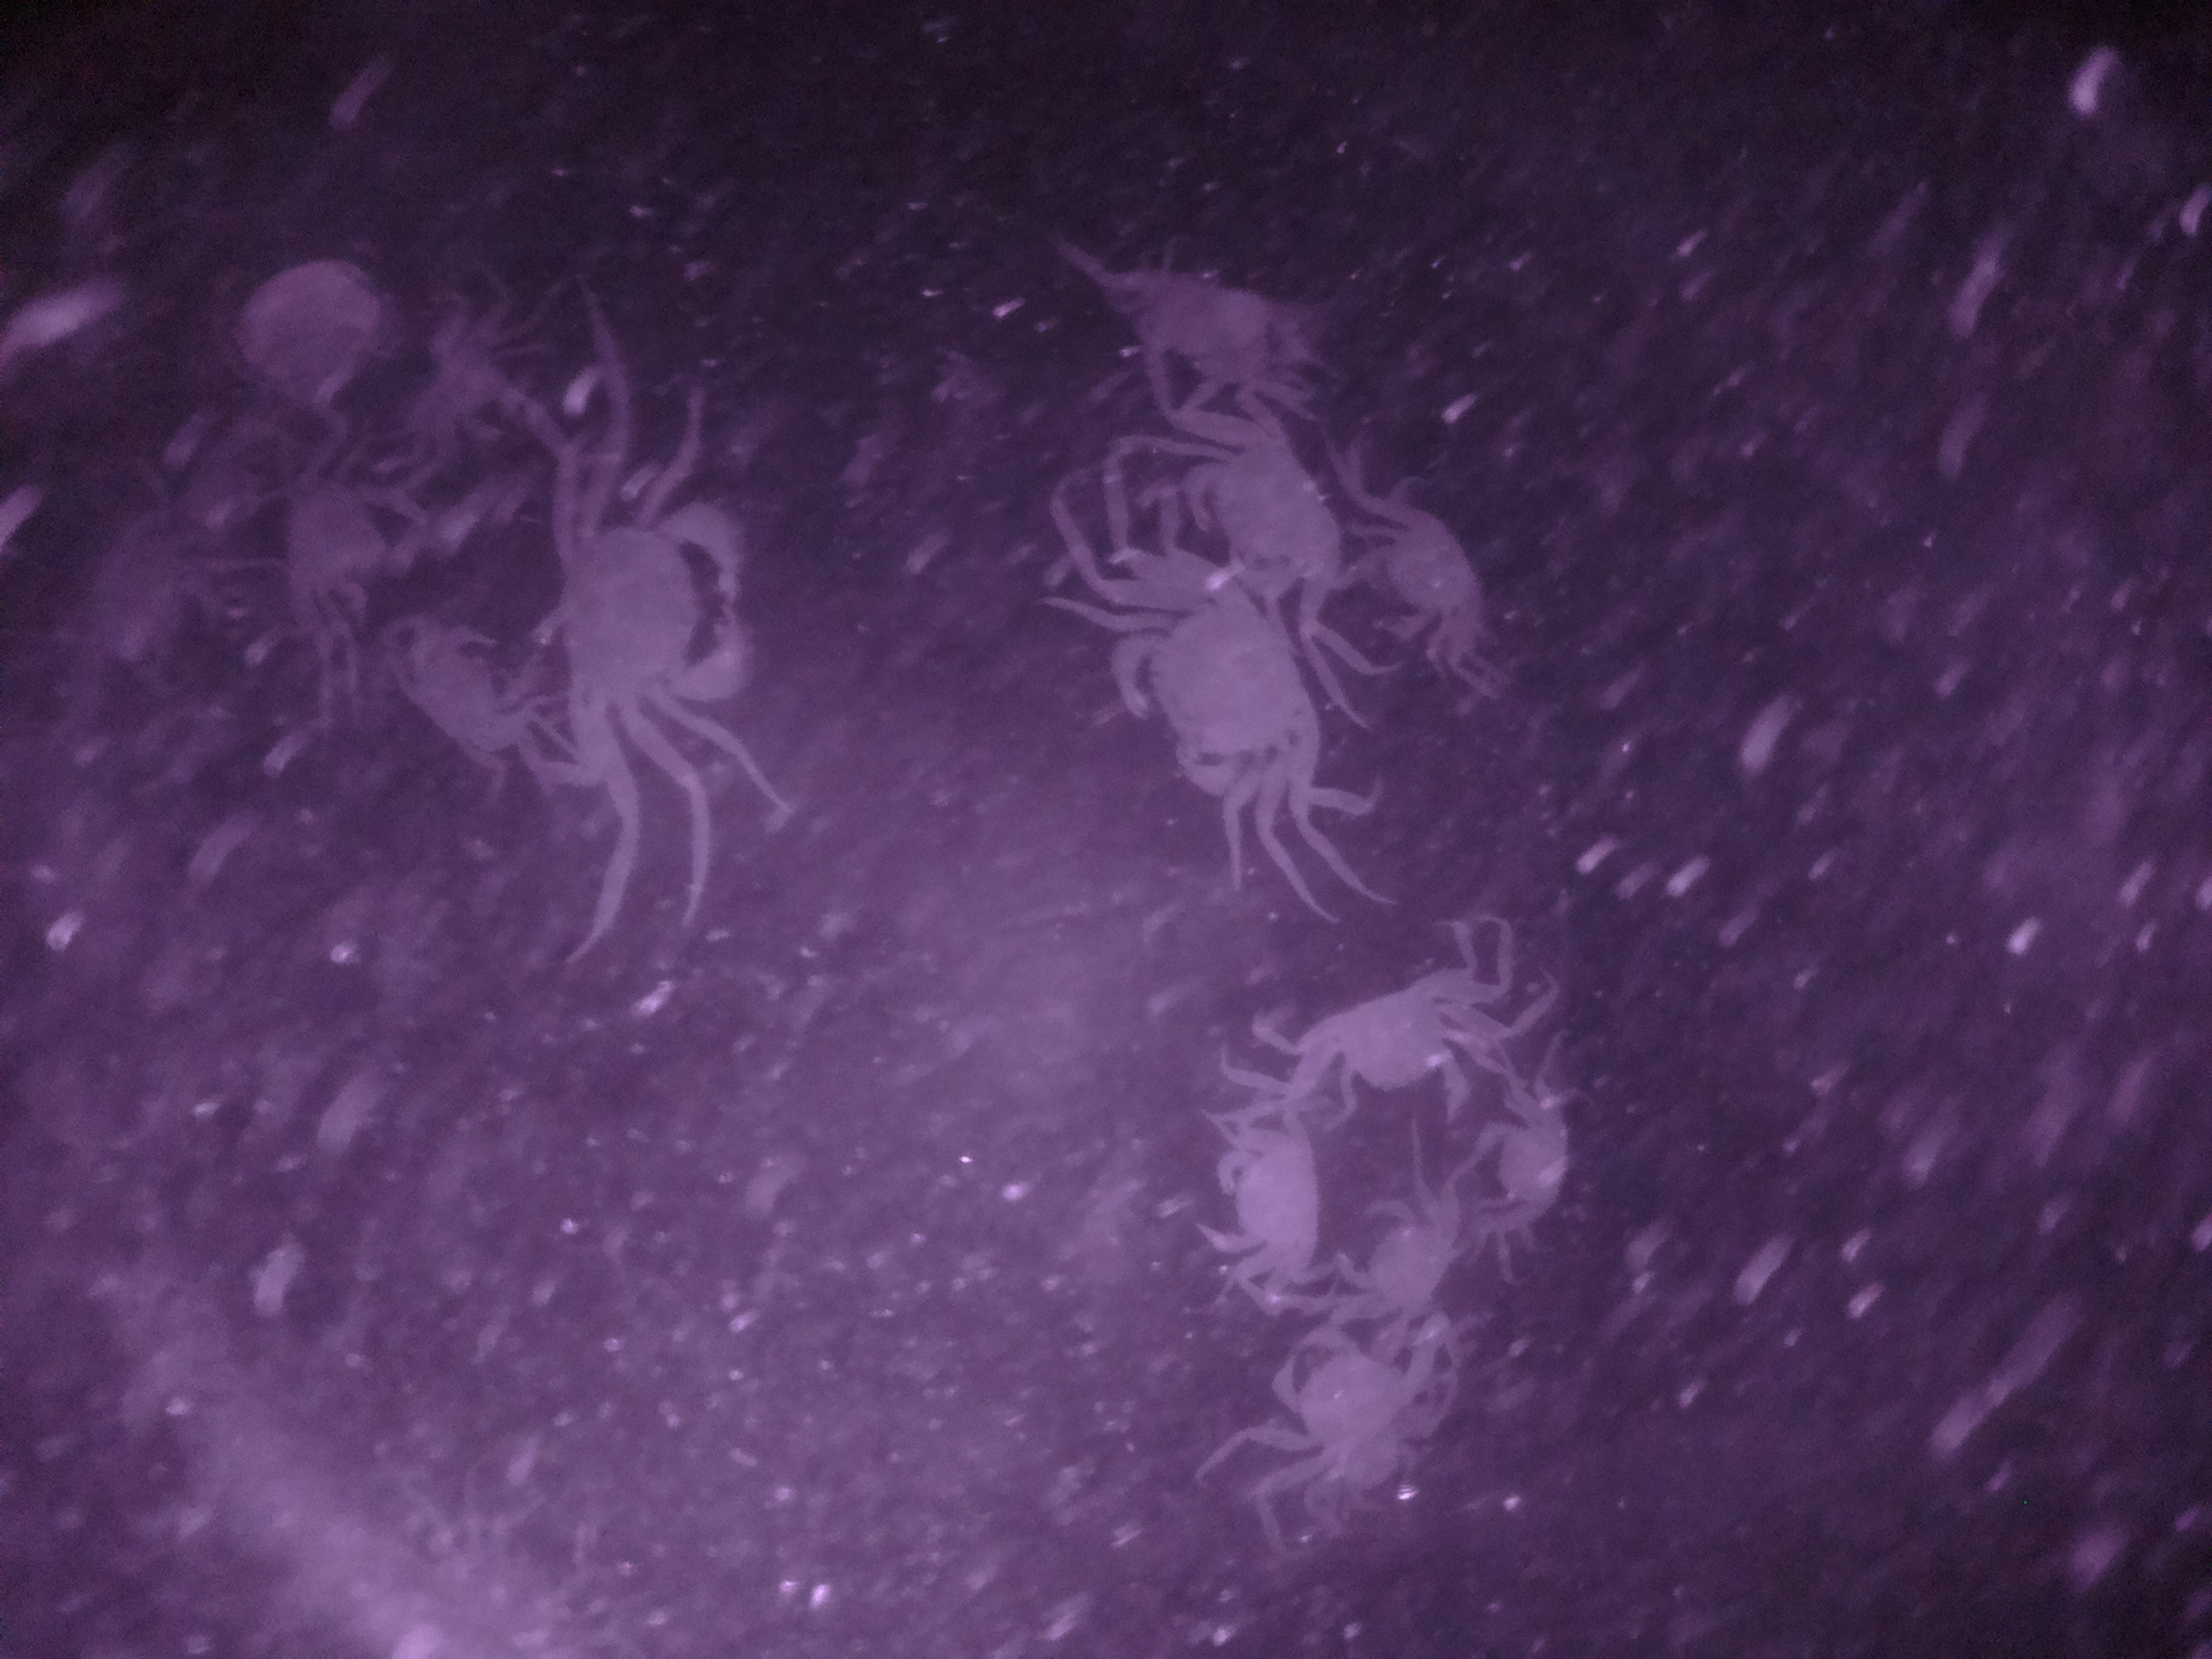Crab: (540, 484, 779, 749), (1099, 540, 1338, 800), (1271, 965, 1486, 1126), (1258, 1316, 1428, 1486), (1334, 504, 1507, 659), (1179, 1105, 1327, 1284), (383, 610, 536, 774), (1465, 1075, 1594, 1244)
